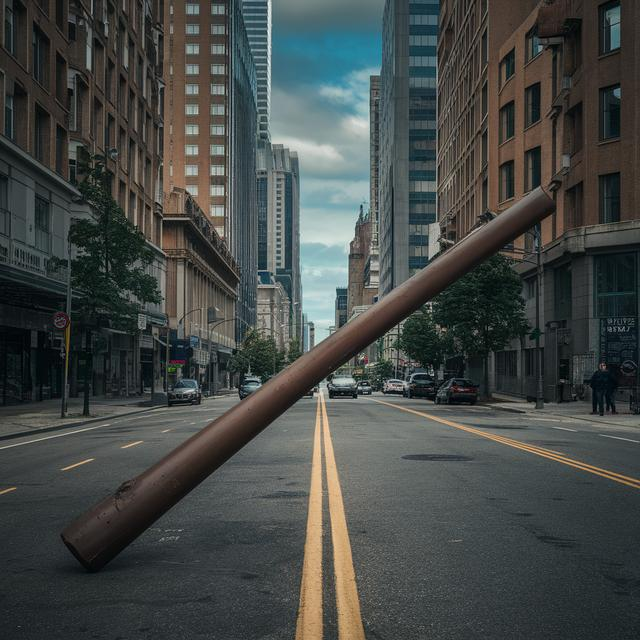Inclined Pole: (50, 189, 560, 577)
